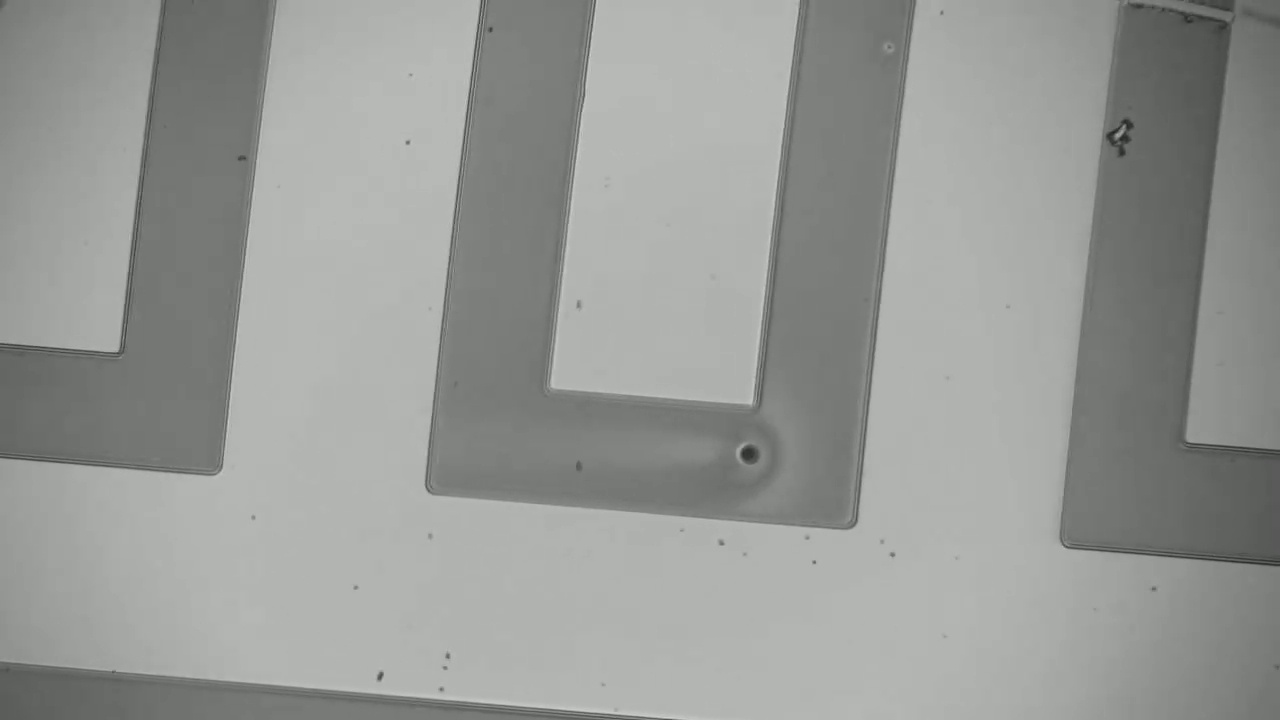Short_circuit: (1102, 1, 1242, 47)
